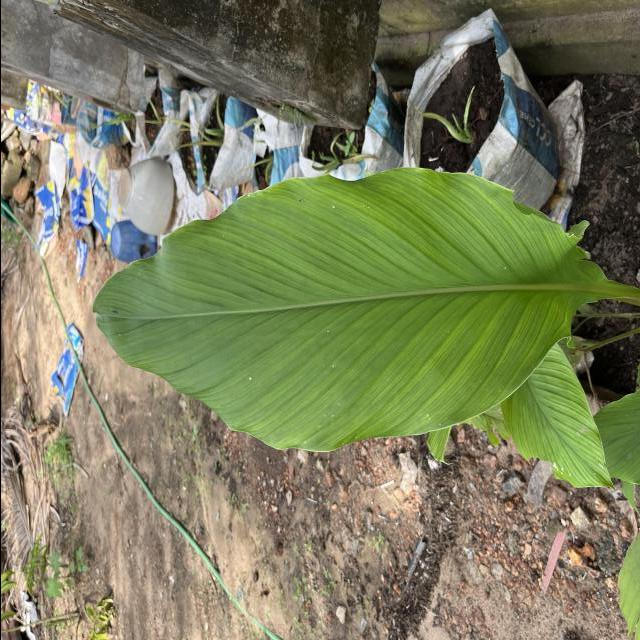Curcuma longa: (90, 164, 616, 456)
